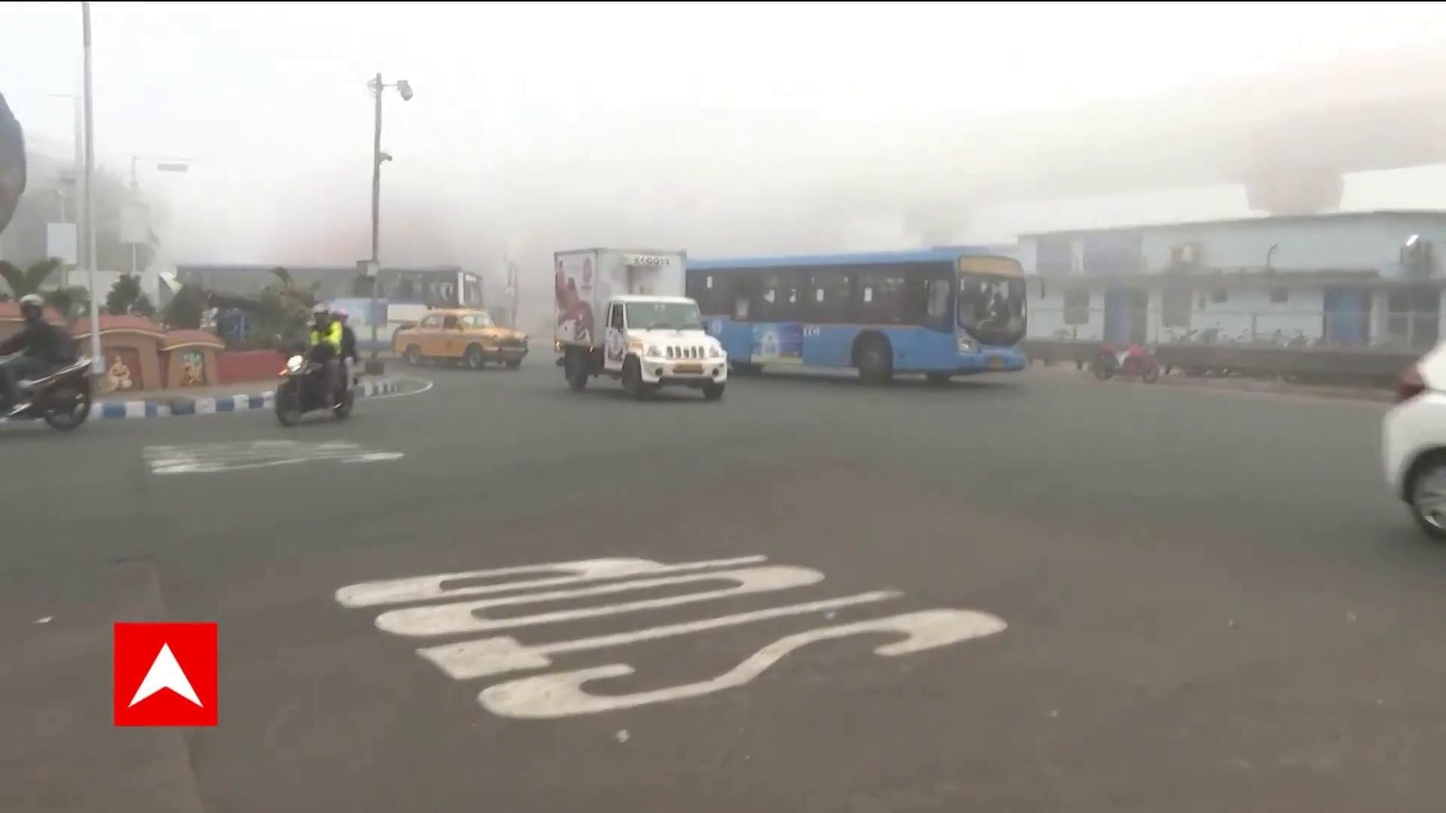Bike: (4, 285, 100, 454), (264, 311, 364, 435)
Bus: (689, 244, 1038, 388)
Car: (388, 300, 529, 371)
Truck: (546, 239, 727, 397)
